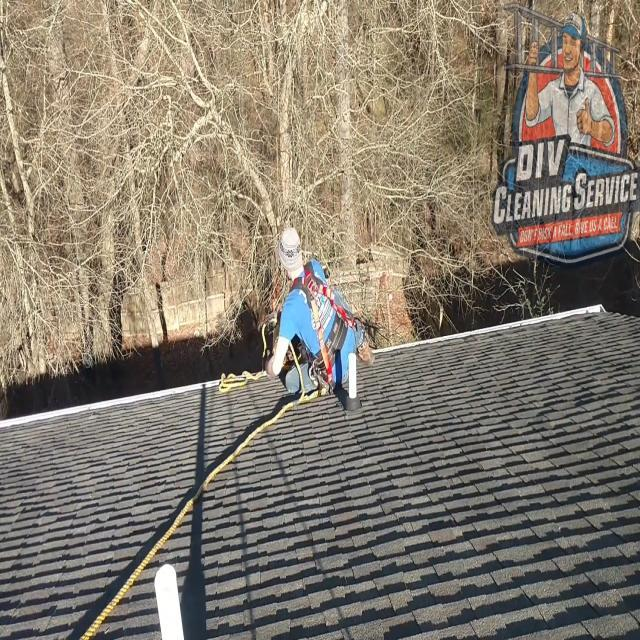belt: (286, 260, 359, 400)
